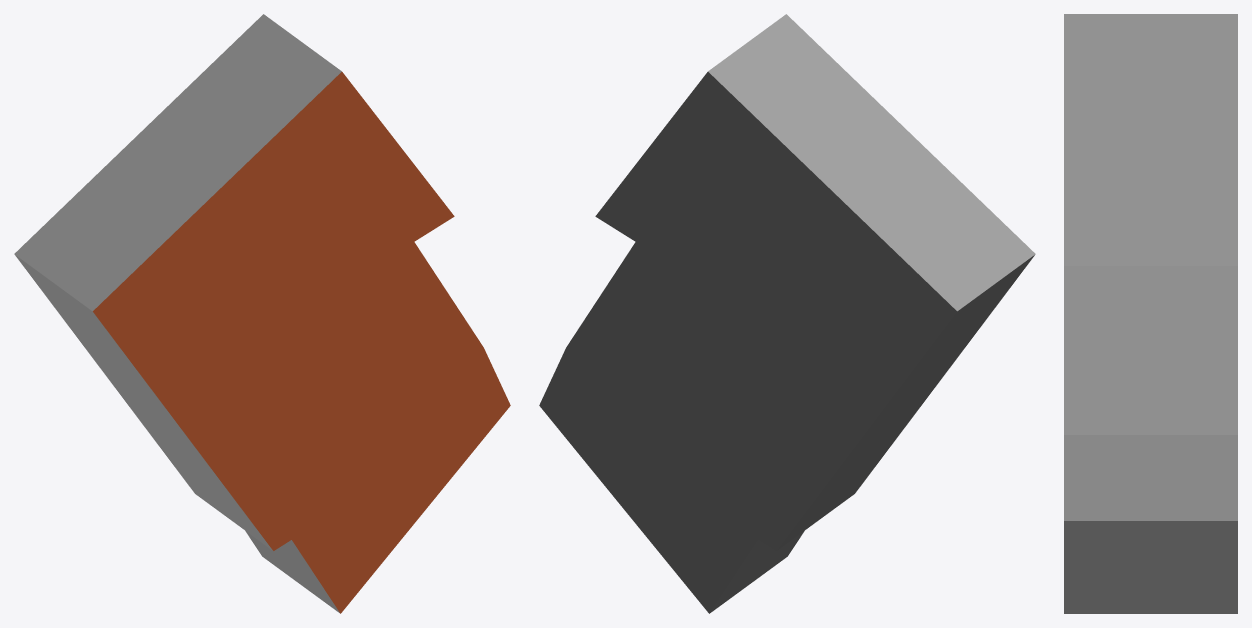
The model's file is construction_5715_assumed_A_Casa_h6m.obj.
3 views of the same model, side by side, from view 1: azimuth 30°, elevation 25°; view 2: azimuth 150°, elevation 25°; view 3: azimuth 270°, elevation 25° (orthographic). The views are drawn at different scales.
Visible parts, largest first — view 1: construction_5715_assumed_A_Casa; view 2: construction_5715_assumed_A_Casa; view 3: construction_5715_assumed_A_Casa.
Boxes of the visible parts, left/top/right/bottom form: construction_5715_assumed_A_Casa: left=14, top=14, right=510, bottom=613; construction_5715_assumed_A_Casa: left=539, top=14, right=1035, bottom=613; construction_5715_assumed_A_Casa: left=1064, top=14, right=1237, bottom=613.
Bounding box in the file's own units: 18.45 × 22.86 × 6.
